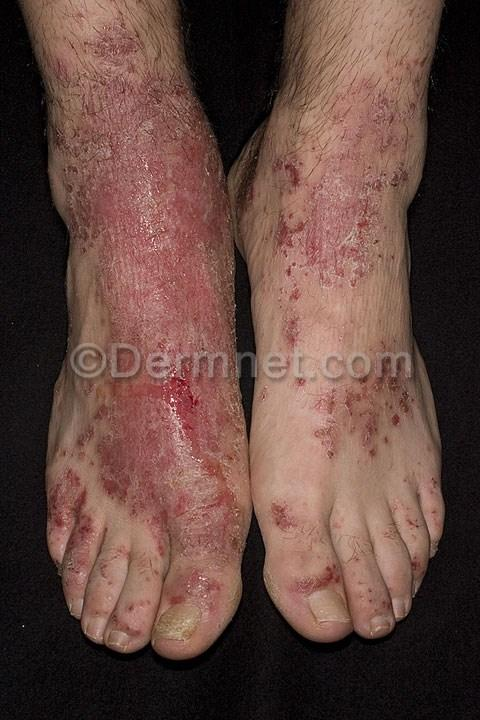Eczema: (36, 56, 237, 341), (222, 69, 445, 319), (91, 382, 239, 543), (302, 372, 420, 499), (23, 446, 93, 531), (177, 536, 235, 619), (246, 488, 310, 560), (282, 540, 337, 594), (108, 573, 164, 624), (256, 299, 304, 354), (341, 541, 382, 601), (400, 494, 427, 576), (53, 532, 99, 579), (420, 448, 443, 523)
